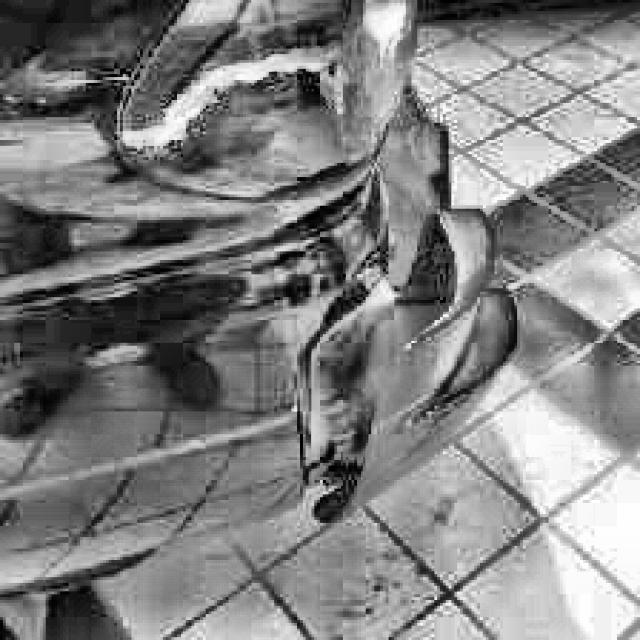tail_lamp: (160, 44, 357, 158)
